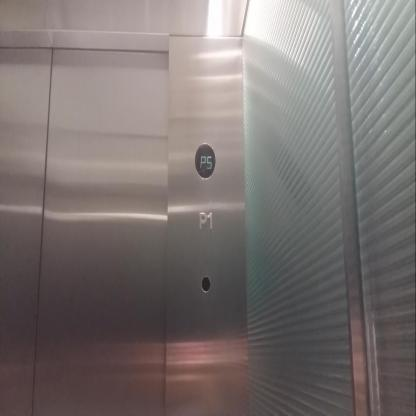P1: (195, 207, 215, 237)
P5: (193, 143, 216, 179)
